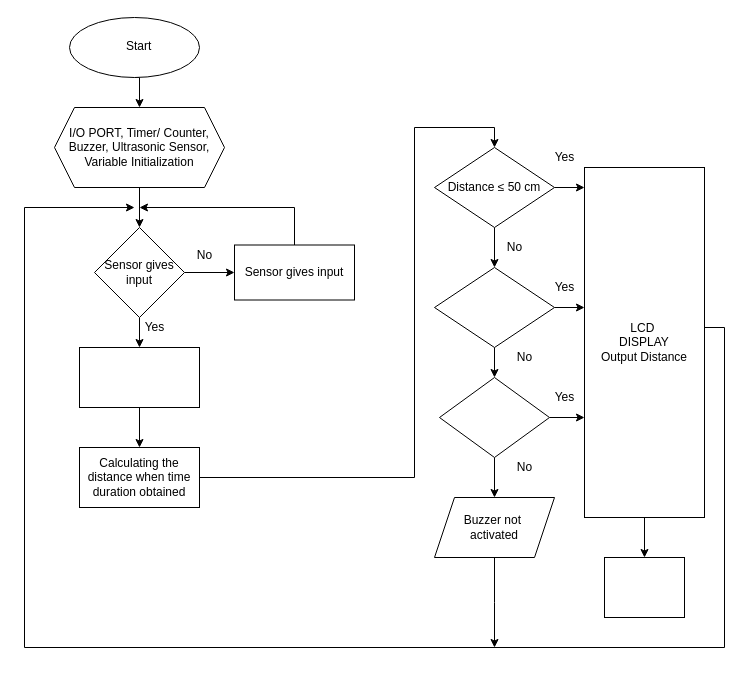
Some shapes in this 750 by 673 pixel diagram are drawn without their labels. Here are the shapes that lost their labels. From the top down, the box of each, then its label:
(434, 266, 554, 348): Distance ≤ 100 cm
(78, 346, 200, 408): Timer starts counting the input time duration
(438, 376, 550, 458): Distance ≤ 150 cm
(604, 556, 684, 618): Buzzer activated
